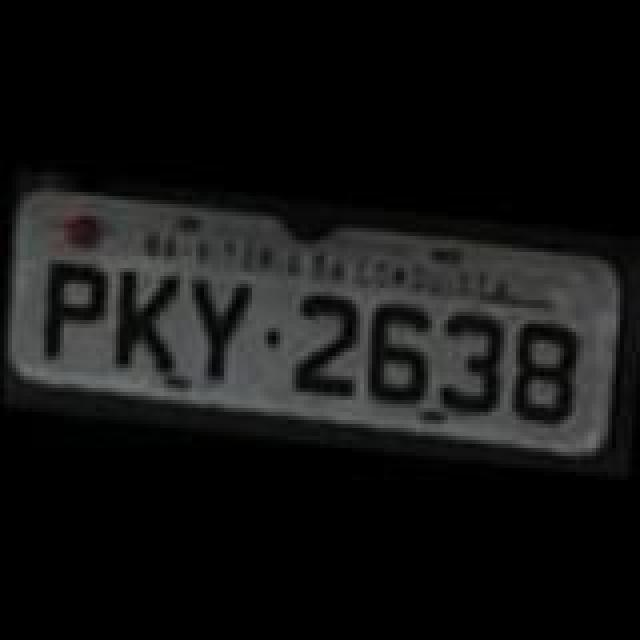2: (278, 280, 366, 396)
3: (428, 298, 504, 414)
6: (354, 290, 434, 406)
8: (508, 310, 584, 434)
K: (108, 260, 184, 372)
P: (38, 250, 110, 366)
Y: (182, 266, 254, 374)
